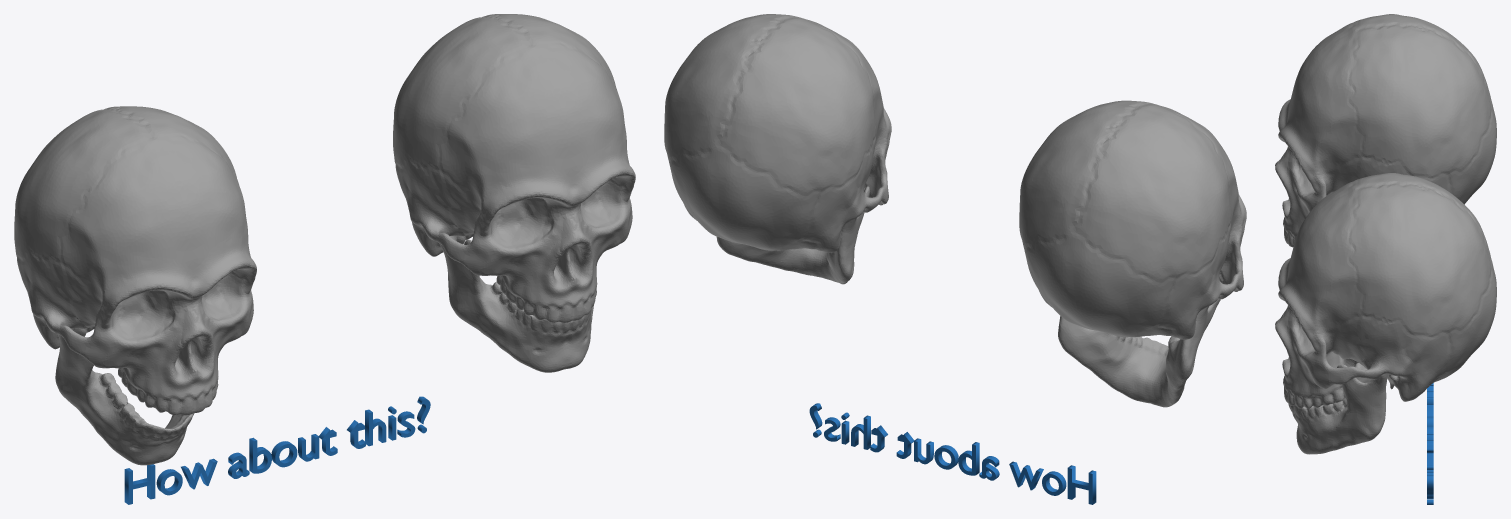
File: Violin-v1.glb
3 views of the same model, side by side, from view 1: azimuth 30°, elevation 25°; view 2: azimuth 150°, elevation 25°; view 3: azimuth 270°, elevation 25° (orthographic). The views are drawn at different scales.
Visible parts, largest first — view 1: skull & jaw1-N2.002, Text.002; view 2: skull & jaw1-N2.002, Text.002; view 3: skull & jaw1-N2.002, Text.002.
Part boxes in pixels (left/top/right/bottom): skull & jaw1-N2.002: left=14, top=14, right=635, bottom=465; Text.002: left=124, top=396, right=430, bottom=504; skull & jaw1-N2.002: left=664, top=14, right=1246, bottom=407; Text.002: left=809, top=403, right=1096, bottom=504; skull & jaw1-N2.002: left=1275, top=14, right=1496, bottom=454; Text.002: left=1427, top=383, right=1433, bottom=504.
Bounding box in the file's own units: 1.75 × 1.17 × 0.6753.
